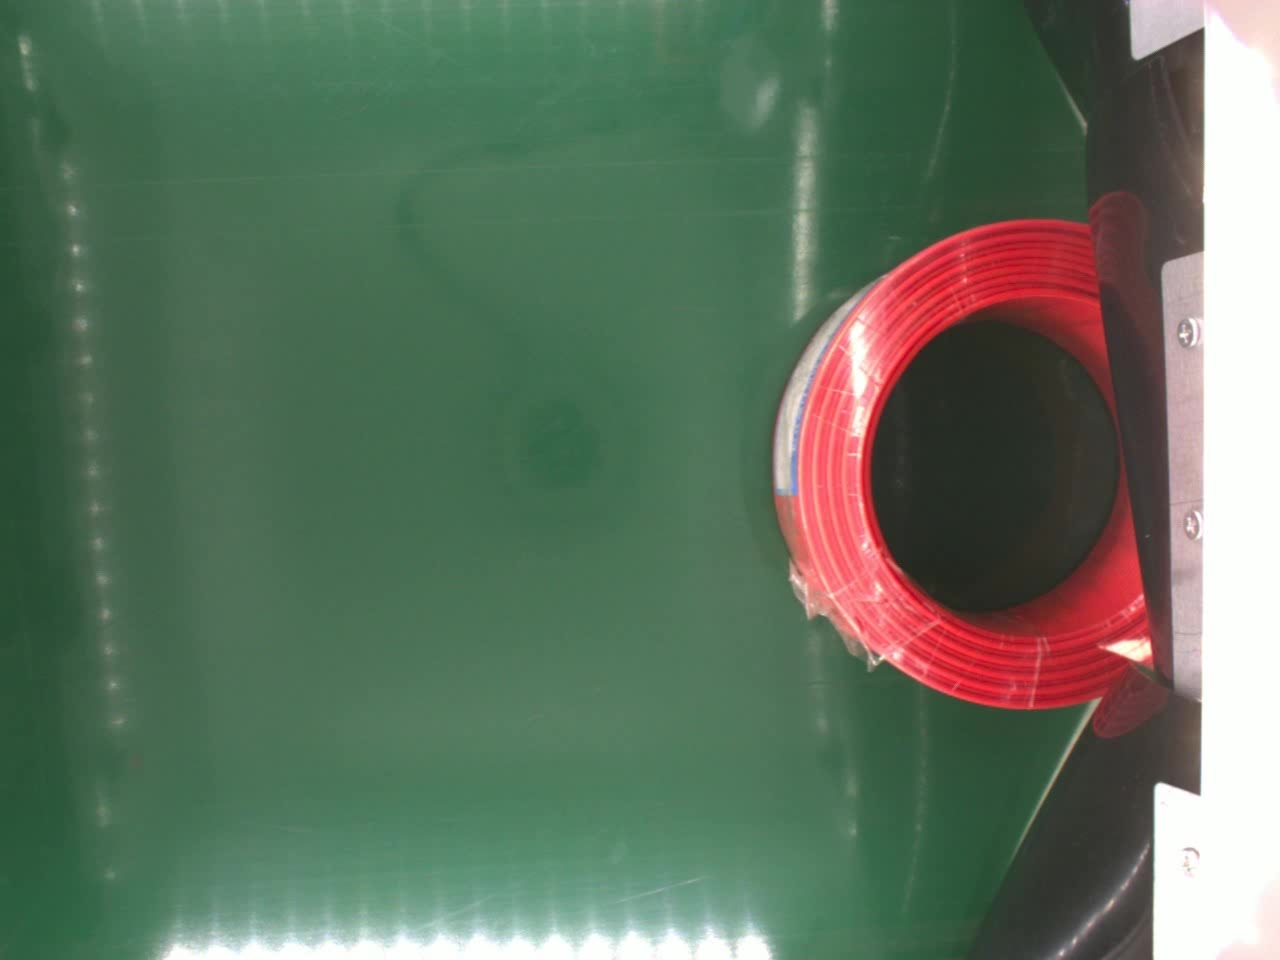red: (770, 215, 1155, 708)
